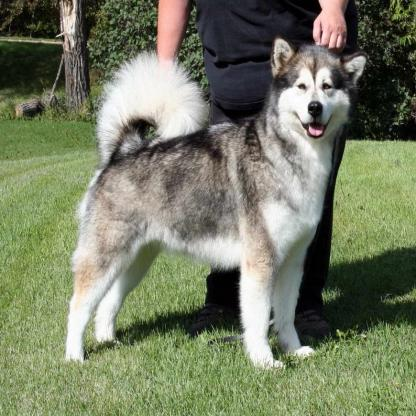husky: (65, 37, 372, 373)
